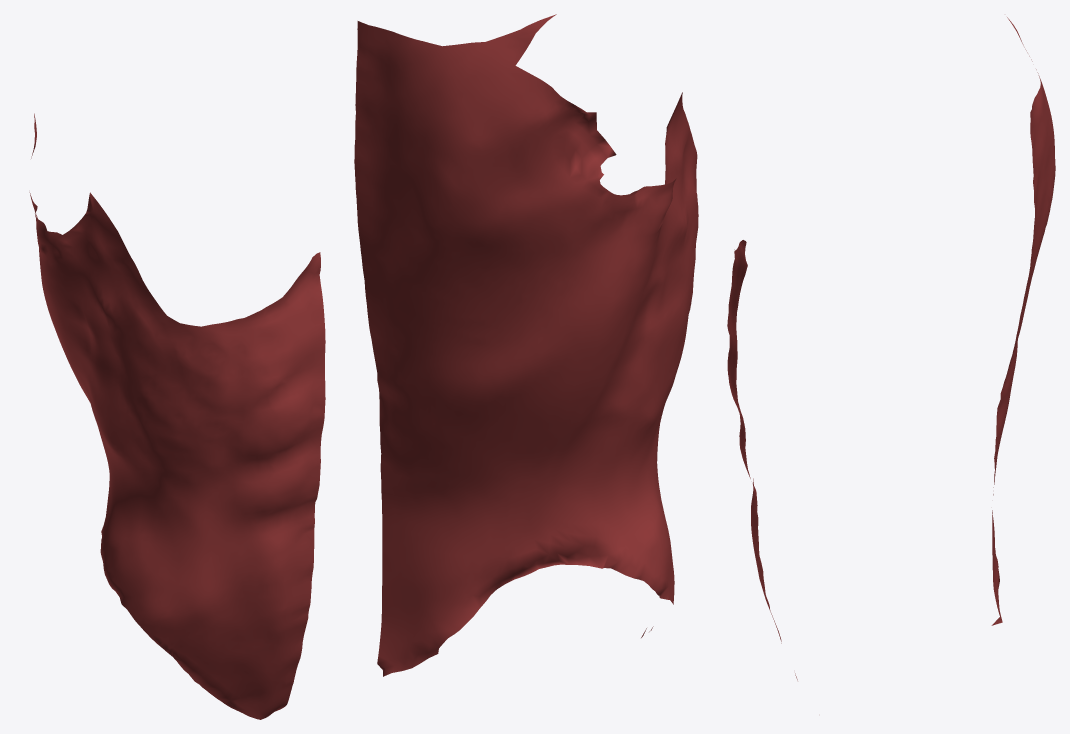
Rendered from investing-abdominal-fascia-r.glb.
3 renders of one model, left to right at view 1: azimuth 30°, elevation 25°; view 2: azimuth 150°, elevation 25°; view 3: azimuth 270°, elevation 25°, orthographic. The views are drawn at different scales.
Parts seen in each view (by area): view 1: Investing abdominal fascia.r; view 2: Investing abdominal fascia.r; view 3: Investing abdominal fascia.r.
Boxes of the visible parts, <box> form: Investing abdominal fascia.r: <box>29,113,325,719</box>; Investing abdominal fascia.r: <box>354,14,698,676</box>; Investing abdominal fascia.r: <box>727,17,1055,680</box>.
Bounding box in the file's own units: 0.1708 × 0.5531 × 0.2572.
